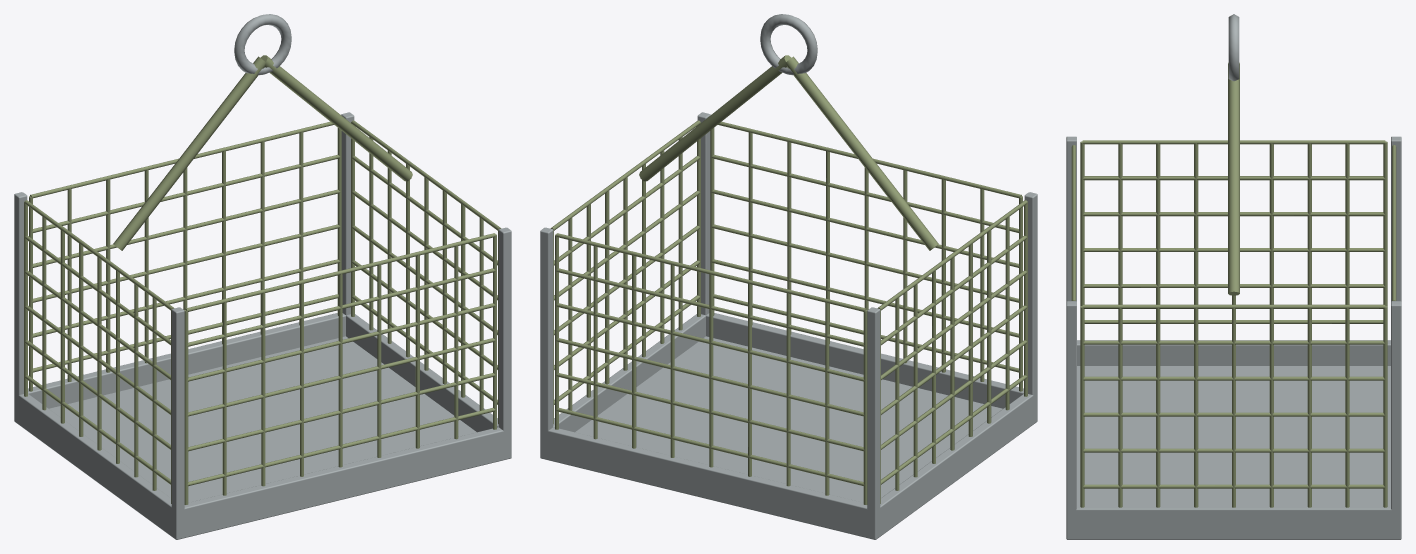
Rendered from flooded-and-coastal-survival-salvage-lifting-basket-9f777492__20067.glb.
3 views of the same model, side by side, from view 1: azimuth 30°, elevation 25°; view 2: azimuth 150°, elevation 25°; view 3: azimuth 270°, elevation 25° (orthographic). The views are drawn at different scales.
Visible parts, largest first — view 1: salvage-lifting-basket; view 2: salvage-lifting-basket; view 3: salvage-lifting-basket.
Part boxes in pixels (x1,y1,x2,y2): salvage-lifting-basket: (14, 14, 511, 539); salvage-lifting-basket: (540, 14, 1037, 539); salvage-lifting-basket: (1066, 14, 1401, 539).
Size of the model in its own units: 0.925 by 1.12 by 0.775.
